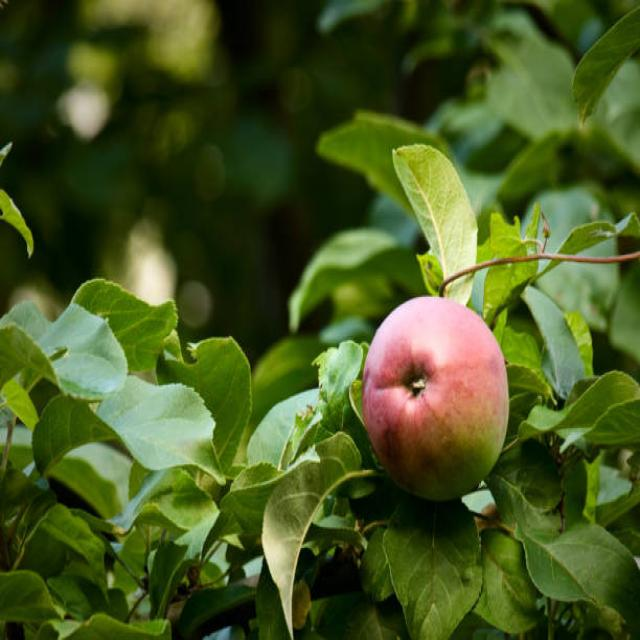Unripe: (359, 293, 511, 502)
